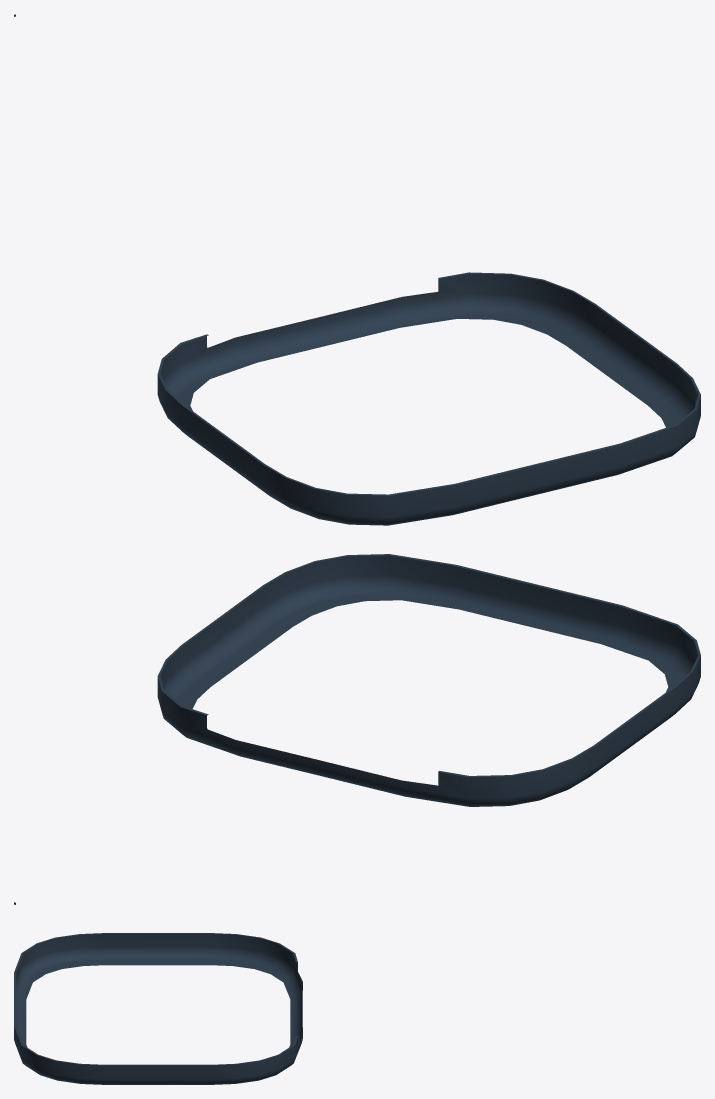
Rendered from AlarmClock_2_AlarmClock_2_0_GeomSubset_1.obj.
3 views of the same model, one above another, from view 1: azimuth 30°, elevation 25°; view 2: azimuth 150°, elevation 25°; view 3: azimuth 270°, elevation 25° (orthographic). The views are drawn at different scales.
Parts seen in each view (by area): view 1: AlarmClock_2_AlarmClock_2_0_GeomSubset_1; view 2: AlarmClock_2_AlarmClock_2_0_GeomSubset_1; view 3: AlarmClock_2_AlarmClock_2_0_GeomSubset_1.
Part boxes in pixels (x1,y1,x2,y2): AlarmClock_2_AlarmClock_2_0_GeomSubset_1: (14,14,700,525); AlarmClock_2_AlarmClock_2_0_GeomSubset_1: (14,554,700,904); AlarmClock_2_AlarmClock_2_0_GeomSubset_1: (14,933,302,1084).
Bounding box in the file's own units: 0.2058 × 0.048 × 0.4513.
